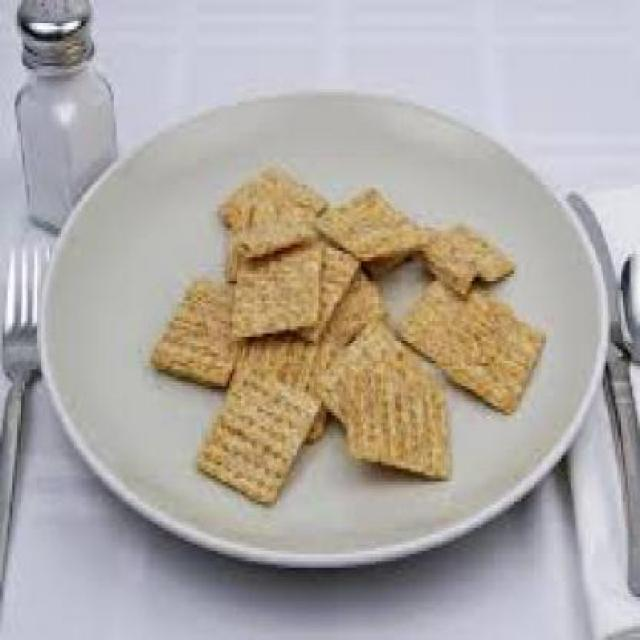Cracker packaged: (336, 346, 450, 482), (194, 370, 320, 488)
